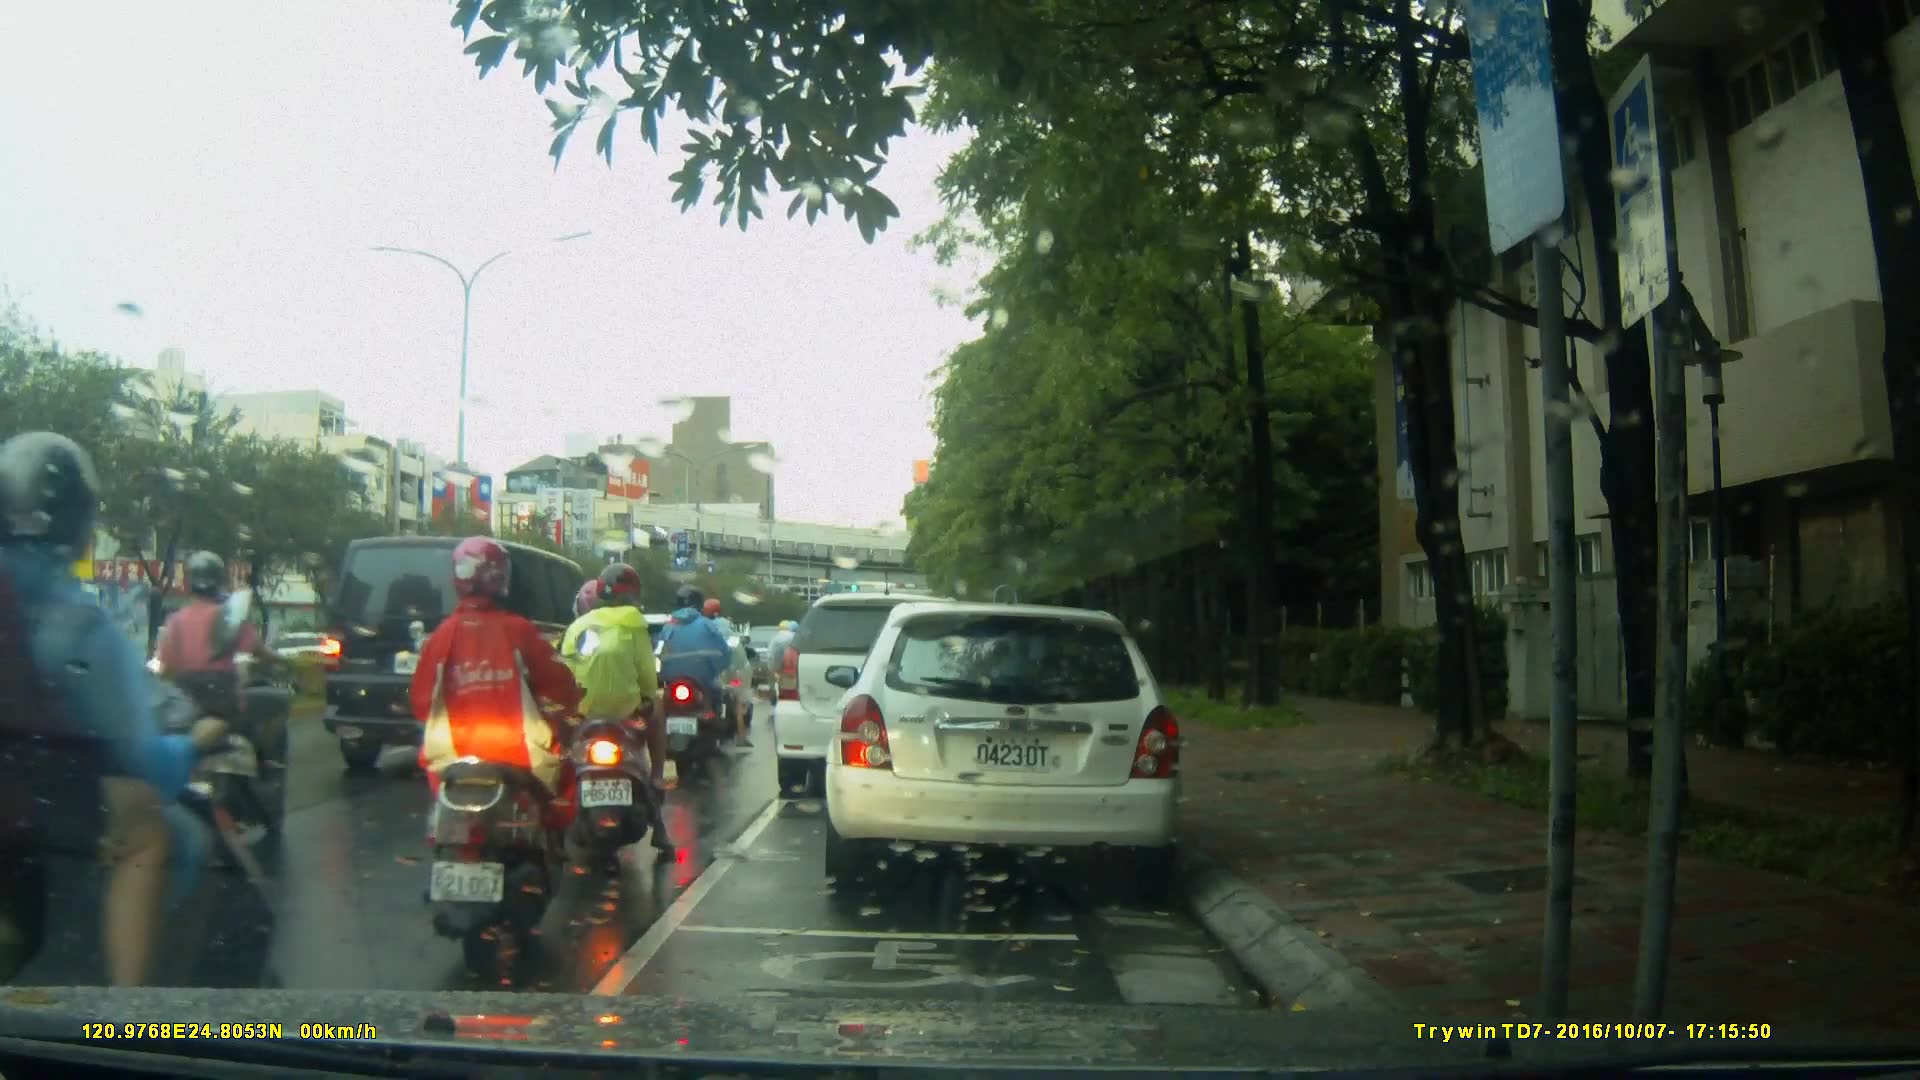rider: (1, 426, 287, 1068), (414, 532, 590, 962), (110, 549, 303, 851), (551, 560, 686, 866), (562, 592, 650, 832), (657, 588, 743, 771), (694, 598, 755, 748), (763, 612, 806, 714)
vehicle: (822, 604, 1188, 883), (314, 533, 635, 783), (774, 595, 995, 802), (569, 612, 756, 739)
